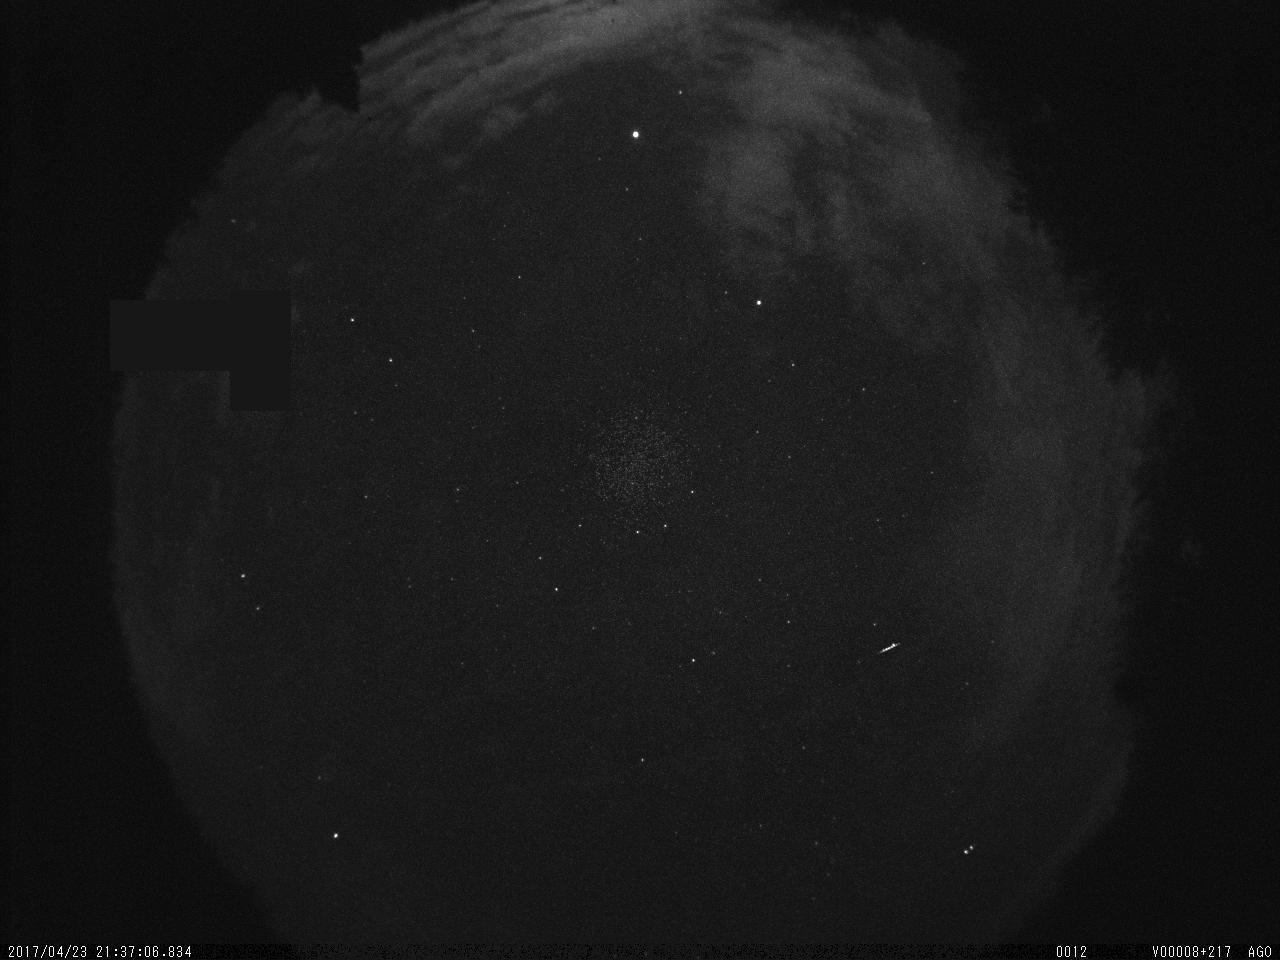meteor: (869, 635, 912, 665)
